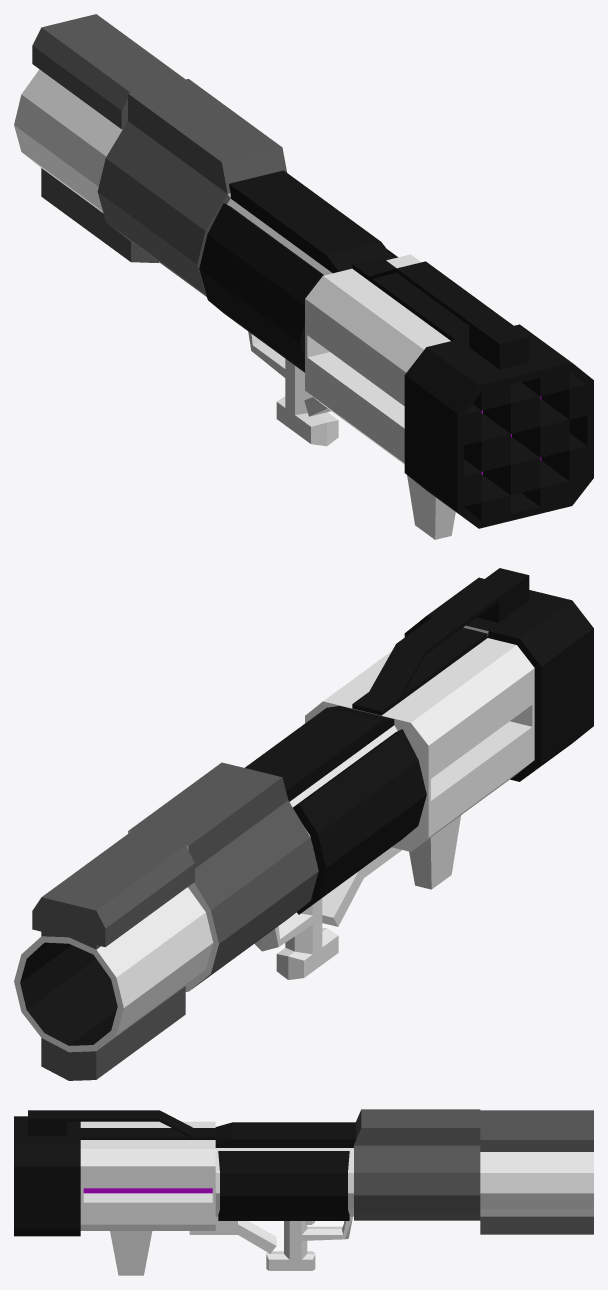
Rendered from Launcher.fbx.
3 views of the same model, one above another, from view 1: azimuth 30°, elevation 25°; view 2: azimuth 150°, elevation 25°; view 3: azimuth 270°, elevation 25° (orthographic). The views are drawn at different scales.
Visible parts, largest first — view 1: Cylinder; view 2: Cylinder; view 3: Cylinder.
Part boxes in pixels (x1,y1,x2,y2): Cylinder: [14, 14, 593, 539]; Cylinder: [14, 568, 593, 1080]; Cylinder: [14, 1109, 593, 1275].
Bounding box in the file's own units: 21.93 × 38.19 × 127.
